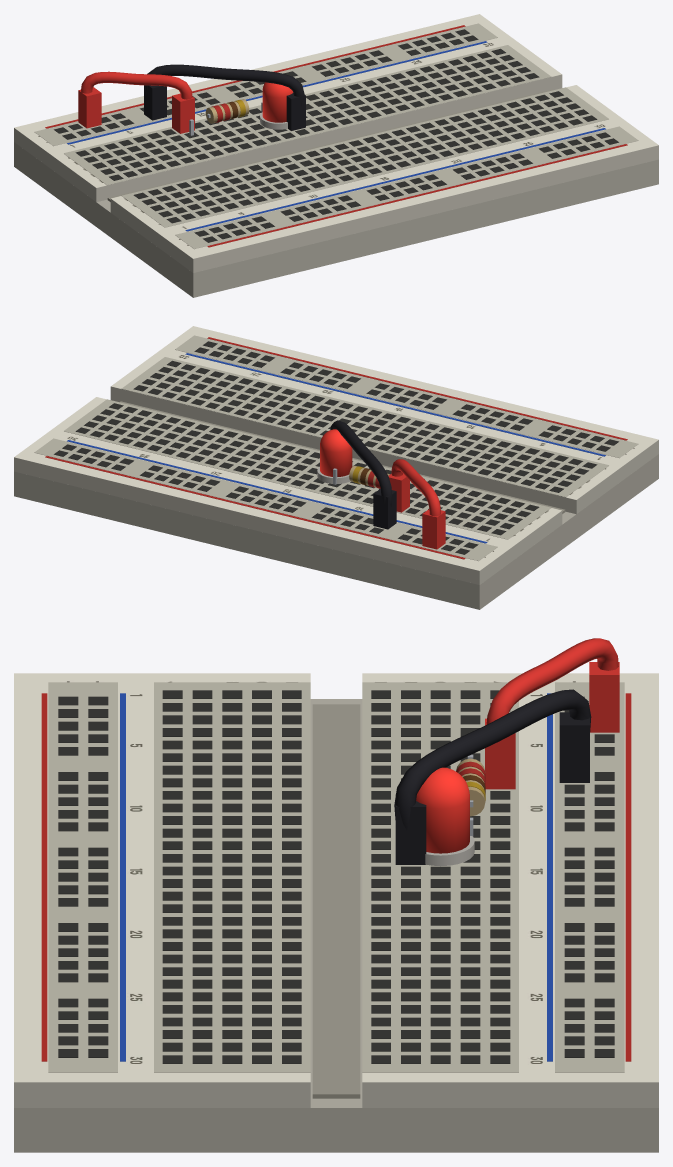
Rendered from mechatronics_breadboard.glb.
The picture shows the model from 3 angles, top to bottom: view 1: azimuth 30°, elevation 25°; view 2: azimuth 150°, elevation 25°; view 3: azimuth 270°, elevation 25°; orthographic projection. The views are drawn at different scales.
Visible parts, largest first — view 1: bb_strips_bottom_g_geo, bb_body_g_geo, bb_strips_top_g_geo, bb_base_g_geo, bb_rails_g_geo, bb_cap_print_b, bb_cap_print_a, wire_geo (×2), led_dome, bb_channel_g_geo, resistor_geo; view 2: bb_body_g_geo, bb_strips_bottom_g_geo, bb_rails_g_geo, bb_base_g_geo, bb_strips_top_g_geo, bb_cap_print_b, bb_cap_print_a, wire_geo (×2), led_dome, bb_channel_g_geo, resistor_geo; view 3: bb_strips_bottom_g_geo, bb_rails_g_geo, bb_strips_top_g_geo, bb_base_g_geo, bb_cap_print_b, bb_cap_print_a, bb_body_g_geo, bb_channel_g_geo, wire_geo (×2), led_dome, resistor_geo.
Part boxes in pixels (<box>): bb_strips_bottom_g_geo: <box>121,87,608,227</box>; bb_body_g_geo: <box>14,25,658,272</box>; bb_strips_top_g_geo: <box>64,45,551,185</box>; bb_base_g_geo: <box>14,142,658,297</box>; bb_rails_g_geo: <box>34,23,638,249</box>; bb_cap_print_b: <box>111,85,658,258</box>; bb_cap_print_a: <box>14,14,561,187</box>; wire_geo (×2): <box>78,64,305,133</box>; led_dome: <box>262,82,293,122</box>; bb_channel_g_geo: <box>107,89,552,201</box>; resistor_geo: <box>189,99,262,135</box>; bb_body_g_geo: <box>14,337,658,584</box>; bb_strips_bottom_g_geo: <box>121,357,608,497</box>; bb_rails_g_geo: <box>34,335,638,561</box>; bb_base_g_geo: <box>14,454,658,609</box>; bb_strips_top_g_geo: <box>64,399,551,539</box>; bb_cap_print_b: <box>111,326,658,499</box>; bb_cap_print_a: <box>14,397,561,570</box>; wire_geo (×2): <box>330,420,445,549</box>; led_dome: <box>320,429,352,476</box>; bb_channel_g_geo: <box>120,401,565,513</box>; resistor_geo: <box>333,465,389,488</box>; bb_strips_bottom_g_geo: <box>154,682,310,1072</box>; bb_rails_g_geo: <box>48,682,624,1072</box>; bb_strips_top_g_geo: <box>362,682,518,1072</box>; bb_base_g_geo: <box>14,699,658,1152</box>; bb_cap_print_b: <box>14,673,310,1082</box>; bb_cap_print_a: <box>362,673,658,1082</box>; bb_body_g_geo: <box>14,693,658,1107</box>; bb_channel_g_geo: <box>312,704,360,1098</box>; wire_geo (×2): <box>394,638,619,864</box>; led_dome: <box>416,767,469,853</box>; resistor_geo: <box>456,754,485,836</box>.
Size of the model in its own units: 0.825 by 0.1559 by 0.55.
4 materials, 1 textured.
